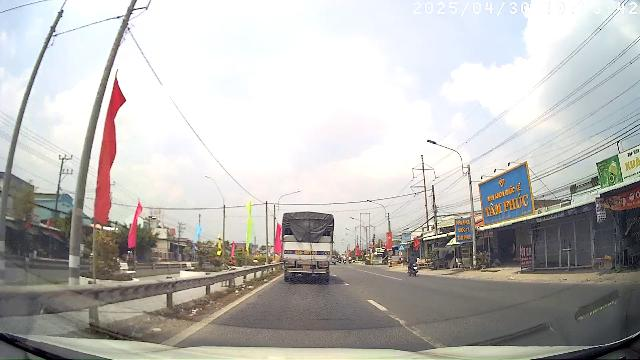423a-duong-nguoi-di-bo-sang-ngang-1: (398, 244, 405, 250)
